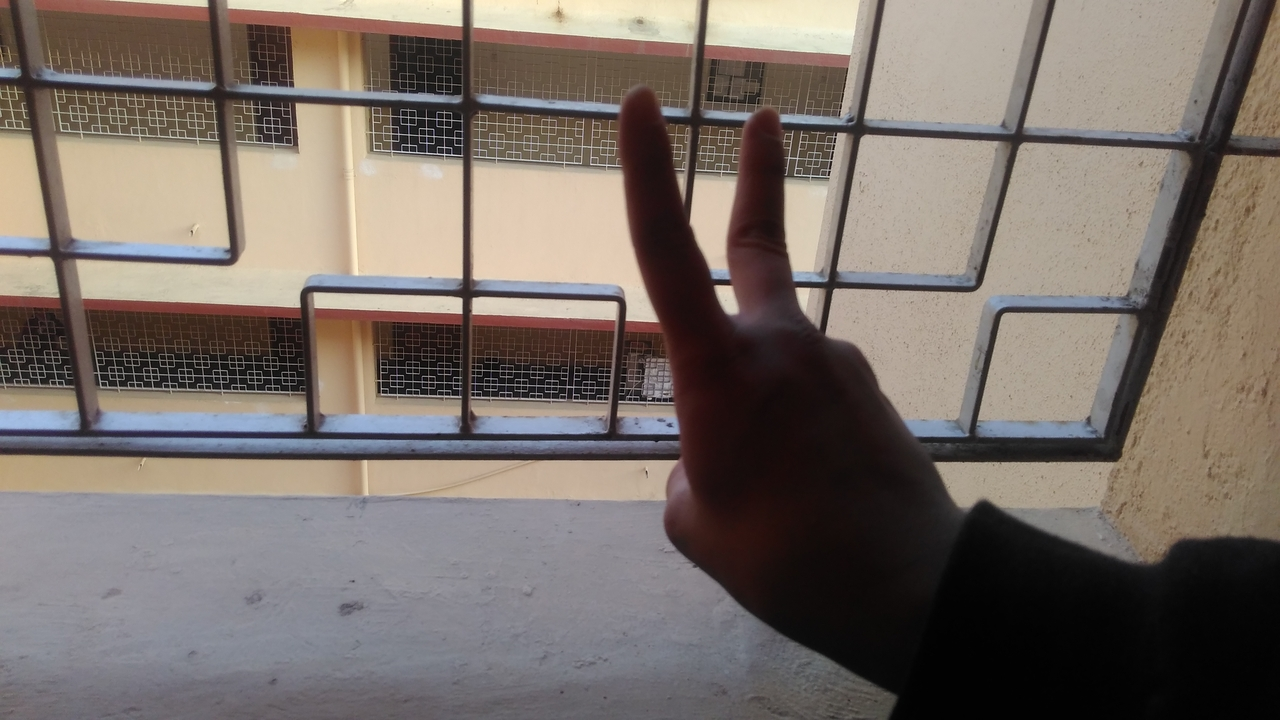fingertip: (614, 82, 668, 130), (736, 100, 788, 146)
